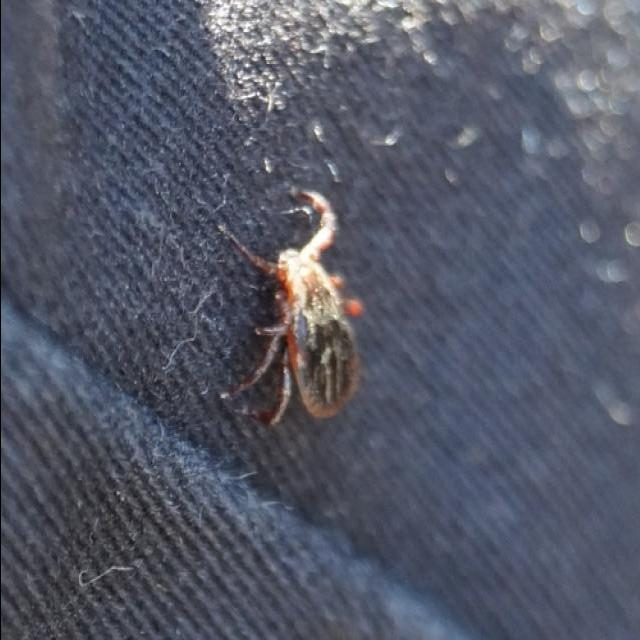Dermacentor Reticulatus-M: (230, 191, 365, 426)
